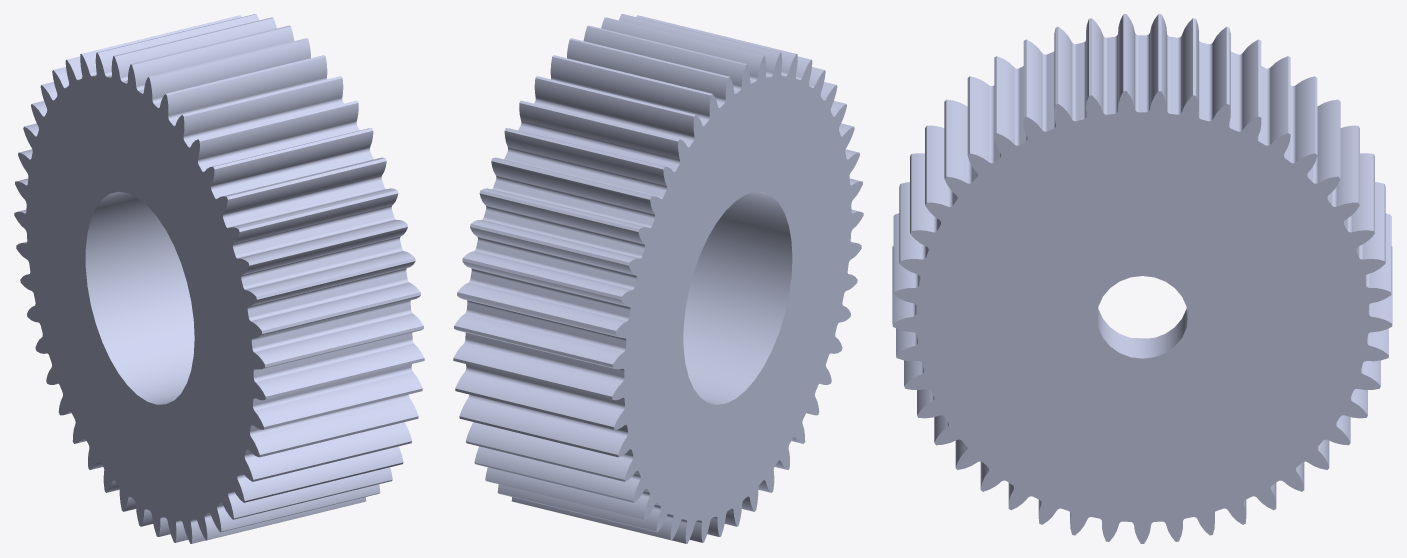
The model's file is spur_gear_5.glb.
3 views of the same model, side by side, from view 1: azimuth 30°, elevation 25°; view 2: azimuth 150°, elevation 25°; view 3: azimuth 270°, elevation 25° (orthographic).
Visible parts, largest first — view 1: spur_gear_5; view 2: spur_gear_5; view 3: spur_gear_5.
Boxes of the visible parts, x1,y1,x2,y2 form: spur_gear_5: [14, 14, 424, 543]; spur_gear_5: [453, 14, 863, 543]; spur_gear_5: [892, 14, 1392, 543].
Bounding box in the file's own units: 0.06 × 0.1643 × 0.1644.
